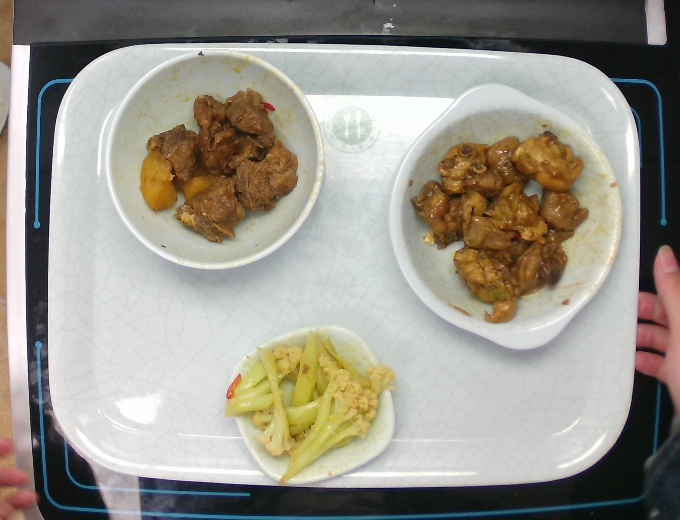JYsf-Fan_Wan: (99, 44, 327, 271)
JYsf-Shuang_Er_Wan: (382, 78, 625, 361)
JYsf-Si_Fang_Die: (219, 317, 402, 488)
